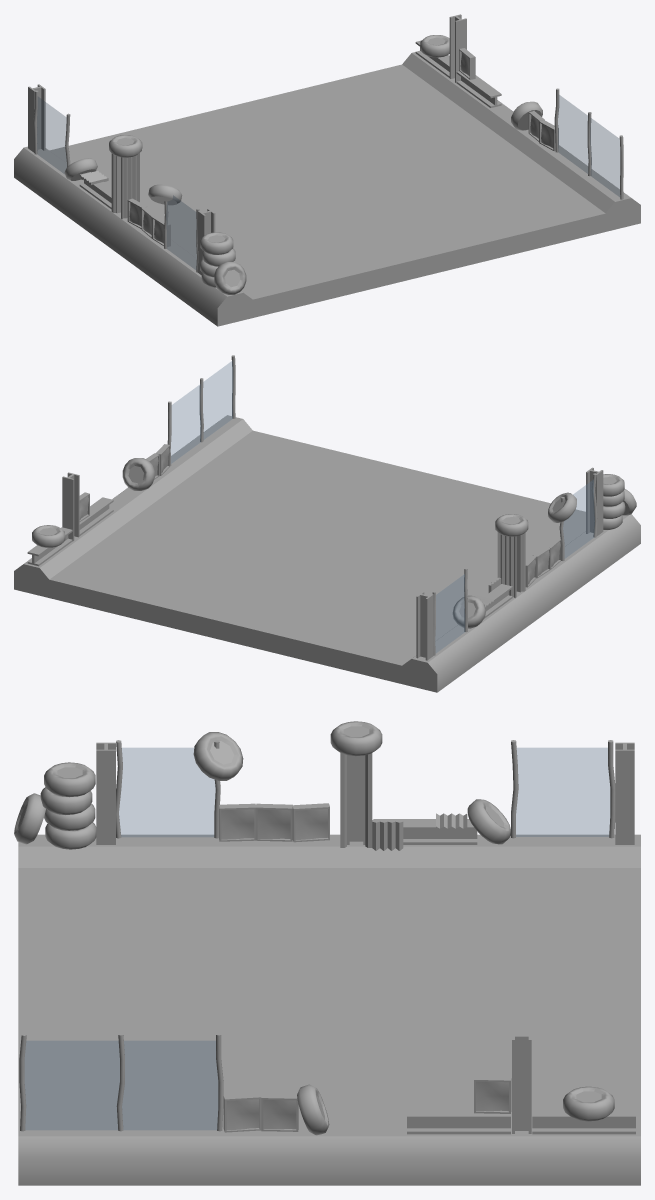
The model's file is 20mTrack.fbx.
3 views of the same model, one above another, from view 1: azimuth 30°, elevation 25°; view 2: azimuth 150°, elevation 25°; view 3: azimuth 270°, elevation 25° (orthographic). The views are drawn at different scales.
Parts seen in each view (by area): view 1: Straight_20m_1; view 2: Straight_20m_1; view 3: Straight_20m_1.
Boxes of the visible parts, box(x1,y1,x2,y2) form: Straight_20m_1: box(14, 14, 640, 326); Straight_20m_1: box(14, 355, 640, 692); Straight_20m_1: box(14, 721, 640, 1185).
Bounding box in the file's own units: 24.06 × 5.44 × 20.14.
